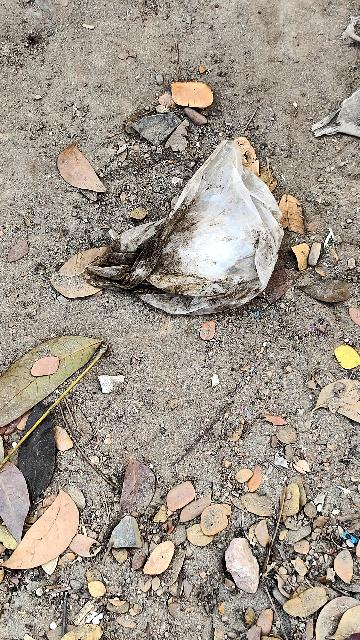polythene: (119, 142, 320, 347)
